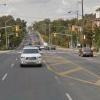Car: (11, 40, 49, 75)
